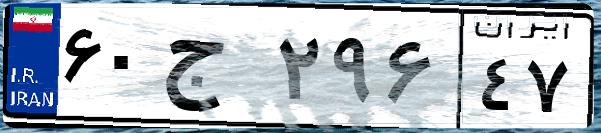0: (110, 28, 158, 98)
2: (270, 28, 330, 110)
4: (475, 38, 525, 113)
6: (385, 28, 445, 110), (57, 26, 110, 100)
7: (525, 38, 570, 115)
9: (330, 28, 385, 110)
ج: (158, 20, 270, 120)
